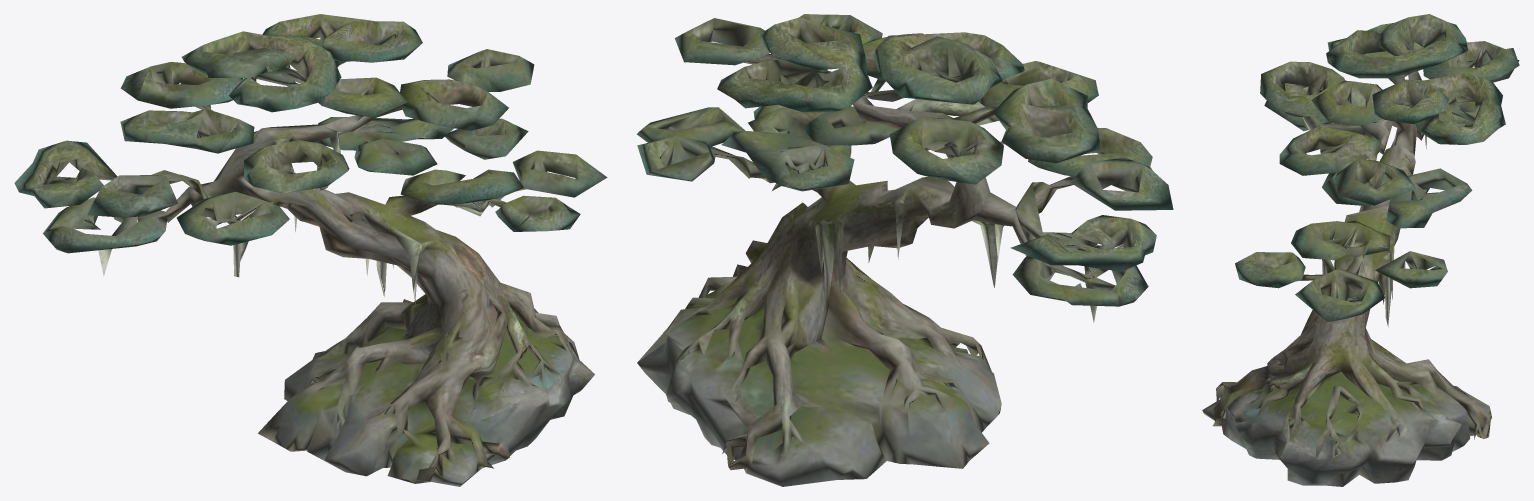
The model's file is prop_tung_phu_dao.6909a0367d.glb.
3 renders of one model, left to right at view 1: azimuth 30°, elevation 25°; view 2: azimuth 150°, elevation 25°; view 3: azimuth 270°, elevation 25°, orthographic. The views are drawn at different scales.
Visible parts, largest first — view 1: prop_tung_phu_dao; view 2: prop_tung_phu_dao; view 3: prop_tung_phu_dao.
Boxes of the visible parts, left/top/right/bottom form: prop_tung_phu_dao: left=14, top=14, right=607, bottom=486; prop_tung_phu_dao: left=636, top=14, right=1173, bottom=486; prop_tung_phu_dao: left=1202, top=14, right=1519, bottom=486.
Size of what is drawn, in the model's own units: 10.53 by 7.5 by 6.23.
Materials: 1 (1 with a texture image).
